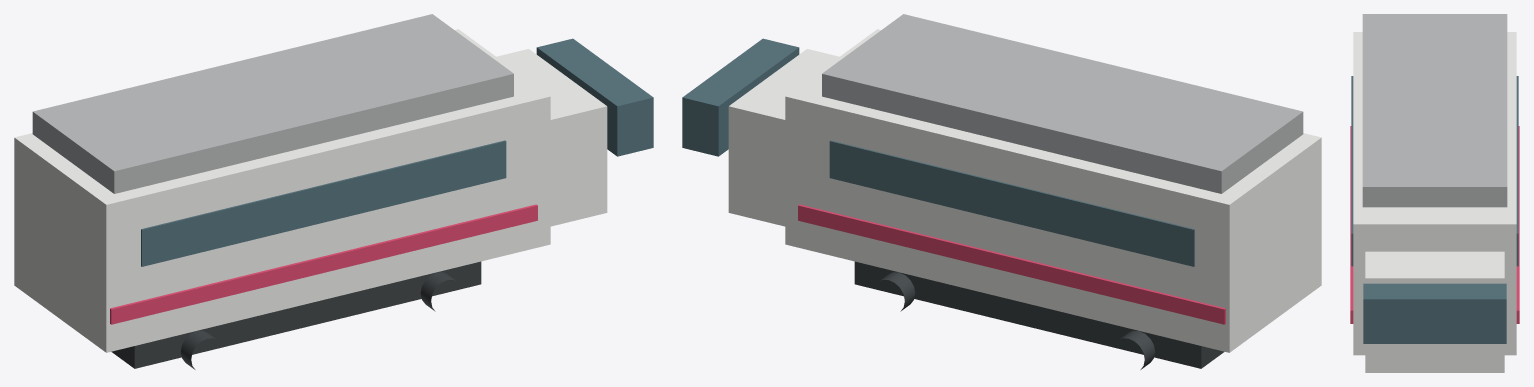
3 renders of one model, left to right at view 1: azimuth 30°, elevation 25°; view 2: azimuth 150°, elevation 25°; view 3: azimuth 270°, elevation 25°, orthographic. The views are drawn at different scales.
Parts seen in each view (by area): view 1: body_shell, roof, window_band, front_nose, undercarriage, livery_stripe, front_glass, bogie_front_1, bogie_front_0; view 2: body_shell, roof, window_band, front_nose, undercarriage, livery_stripe, front_glass, bogie_back_1, bogie_back_0; view 3: roof, body_shell, front_glass, front_nose, window_band, livery_stripe.
Part boxes in pixels (bbox=[...]): body_shell: bbox=[14, 29, 550, 352]; roof: bbox=[32, 14, 513, 193]; window_band: bbox=[141, 140, 506, 266]; front_nose: bbox=[496, 49, 607, 226]; undercarriage: bbox=[111, 261, 481, 368]; livery_stripe: bbox=[110, 204, 537, 324]; front_glass: bbox=[536, 38, 653, 156]; bogie_front_1: bbox=[420, 272, 457, 311]; bogie_front_0: bbox=[181, 330, 218, 369]; body_shell: bbox=[785, 29, 1321, 352]; roof: bbox=[822, 14, 1303, 193]; window_band: bbox=[829, 140, 1194, 266]; front_nose: bbox=[728, 49, 839, 226]; undercarriage: bbox=[854, 261, 1224, 368]; livery_stripe: bbox=[798, 204, 1225, 324]; front_glass: bbox=[682, 38, 799, 156]; bogie_back_1: bbox=[878, 272, 915, 311]; bogie_back_0: bbox=[1117, 330, 1154, 369]; roof: bbox=[1362, 14, 1507, 207]; body_shell: bbox=[1353, 32, 1516, 355]; front_glass: bbox=[1363, 283, 1506, 343]; front_nose: bbox=[1365, 251, 1504, 372]; window_band: bbox=[1351, 76, 1518, 266]; livery_stripe: bbox=[1350, 126, 1519, 323].
Size of the model in its own units: 3.05 by 1.16 by 0.91.
